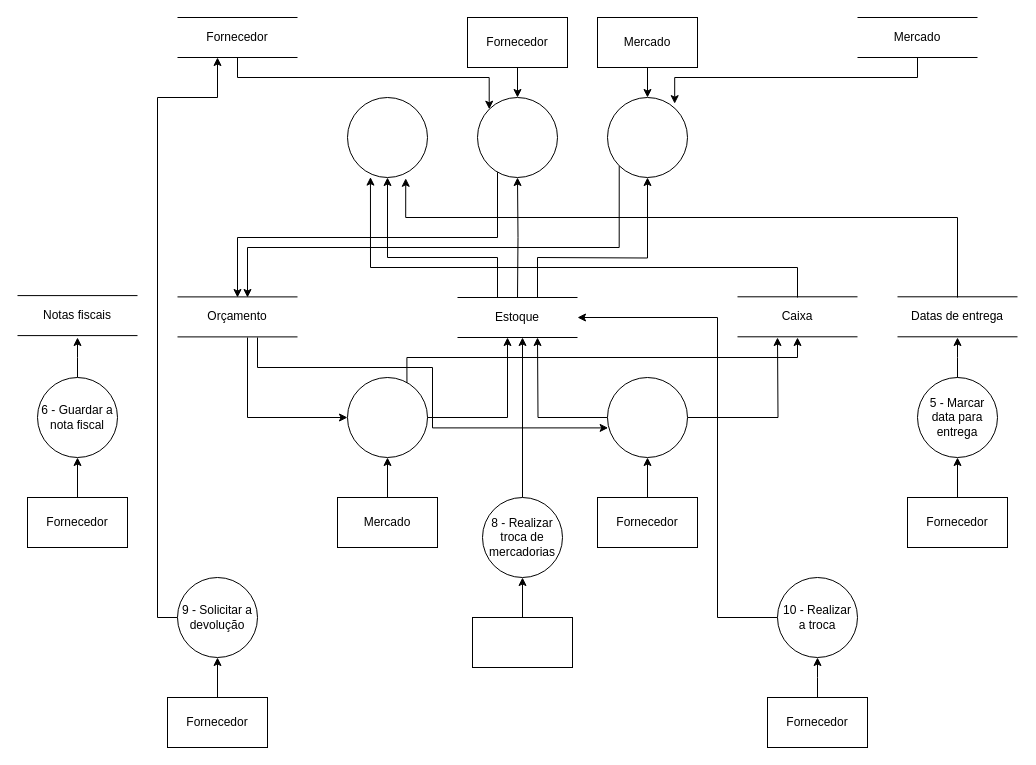
Image size: 1036x765. Some labels were removed from this diagram. Each missing label, with the box of its shape:
1 - Verificar produtos para compra: (346, 96, 428, 178)
2 - Contatar fornecedores: (476, 96, 558, 178)
3 - Pesquisar em mercados atacadistas: (606, 96, 688, 178)
4 - Realizar compra com fornecedores: (606, 376, 688, 458)
7 - Realizar compra com o mercado: (346, 376, 428, 458)
Outras lanchonetes/bares: (472, 616, 572, 668)
